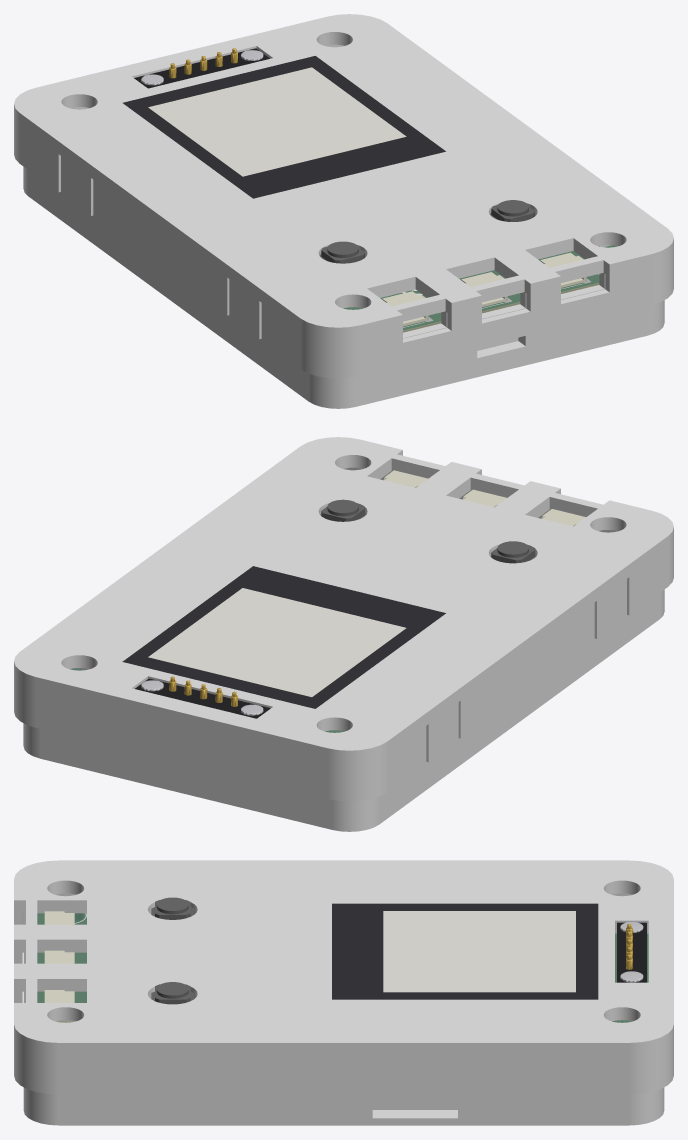
Rendered from badge-v1.glb.
3 views of the same model, one above another, from view 1: azimuth 30°, elevation 25°; view 2: azimuth 150°, elevation 25°; view 3: azimuth 270°, elevation 25° (orthographic).
Visible parts, largest first — view 1: =>[0:1:1:53], panel (Shell) (×2), =>[0:1:1:51], Body (×2), pogo_pins (Shell), =>[0:1:1:81], =>[0:1:1:83]; view 2: =>[0:1:1:53], panel (Shell) (×2), =>[0:1:1:51], Body (×2), pogo_pins (Shell); view 3: =>[0:1:1:53], panel (Shell) (×2), =>[0:1:1:51], Body (×2), =>[0:1:1:28] (×3), pogo_pins (Shell), =>[0:1:1:81], =>[0:1:1:83].
Boxes of the visible parts, x1,y1,x2,y2 form: =>[0:1:1:53]: [14, 14, 673, 378]; panel (Shell) (×2): [123, 56, 445, 198]; =>[0:1:1:51]: [23, 44, 664, 408]; Body (×2): [320, 200, 535, 263]; pogo_pins (Shell): [134, 48, 269, 88]; =>[0:1:1:81]: [343, 245, 617, 330]; =>[0:1:1:83]: [344, 245, 615, 332]; =>[0:1:1:53]: [14, 437, 673, 801]; panel (Shell) (×2): [122, 566, 445, 708]; =>[0:1:1:51]: [23, 467, 664, 831]; Body (×2): [320, 499, 536, 563]; pogo_pins (Shell): [135, 678, 270, 718]; =>[0:1:1:53]: [14, 860, 673, 1094]; panel (Shell) (×2): [332, 903, 598, 999]; =>[0:1:1:51]: [23, 893, 664, 1125]; Body (×2): [151, 897, 193, 1004]; =>[0:1:1:28] (×3): [44, 911, 75, 1022]; pogo_pins (Shell): [617, 922, 646, 982]; =>[0:1:1:81]: [37, 913, 648, 1022]; =>[0:1:1:83]: [38, 914, 647, 1022].
Size of the model in its own units: 0.0605 by 0.0155 by 0.0925.
